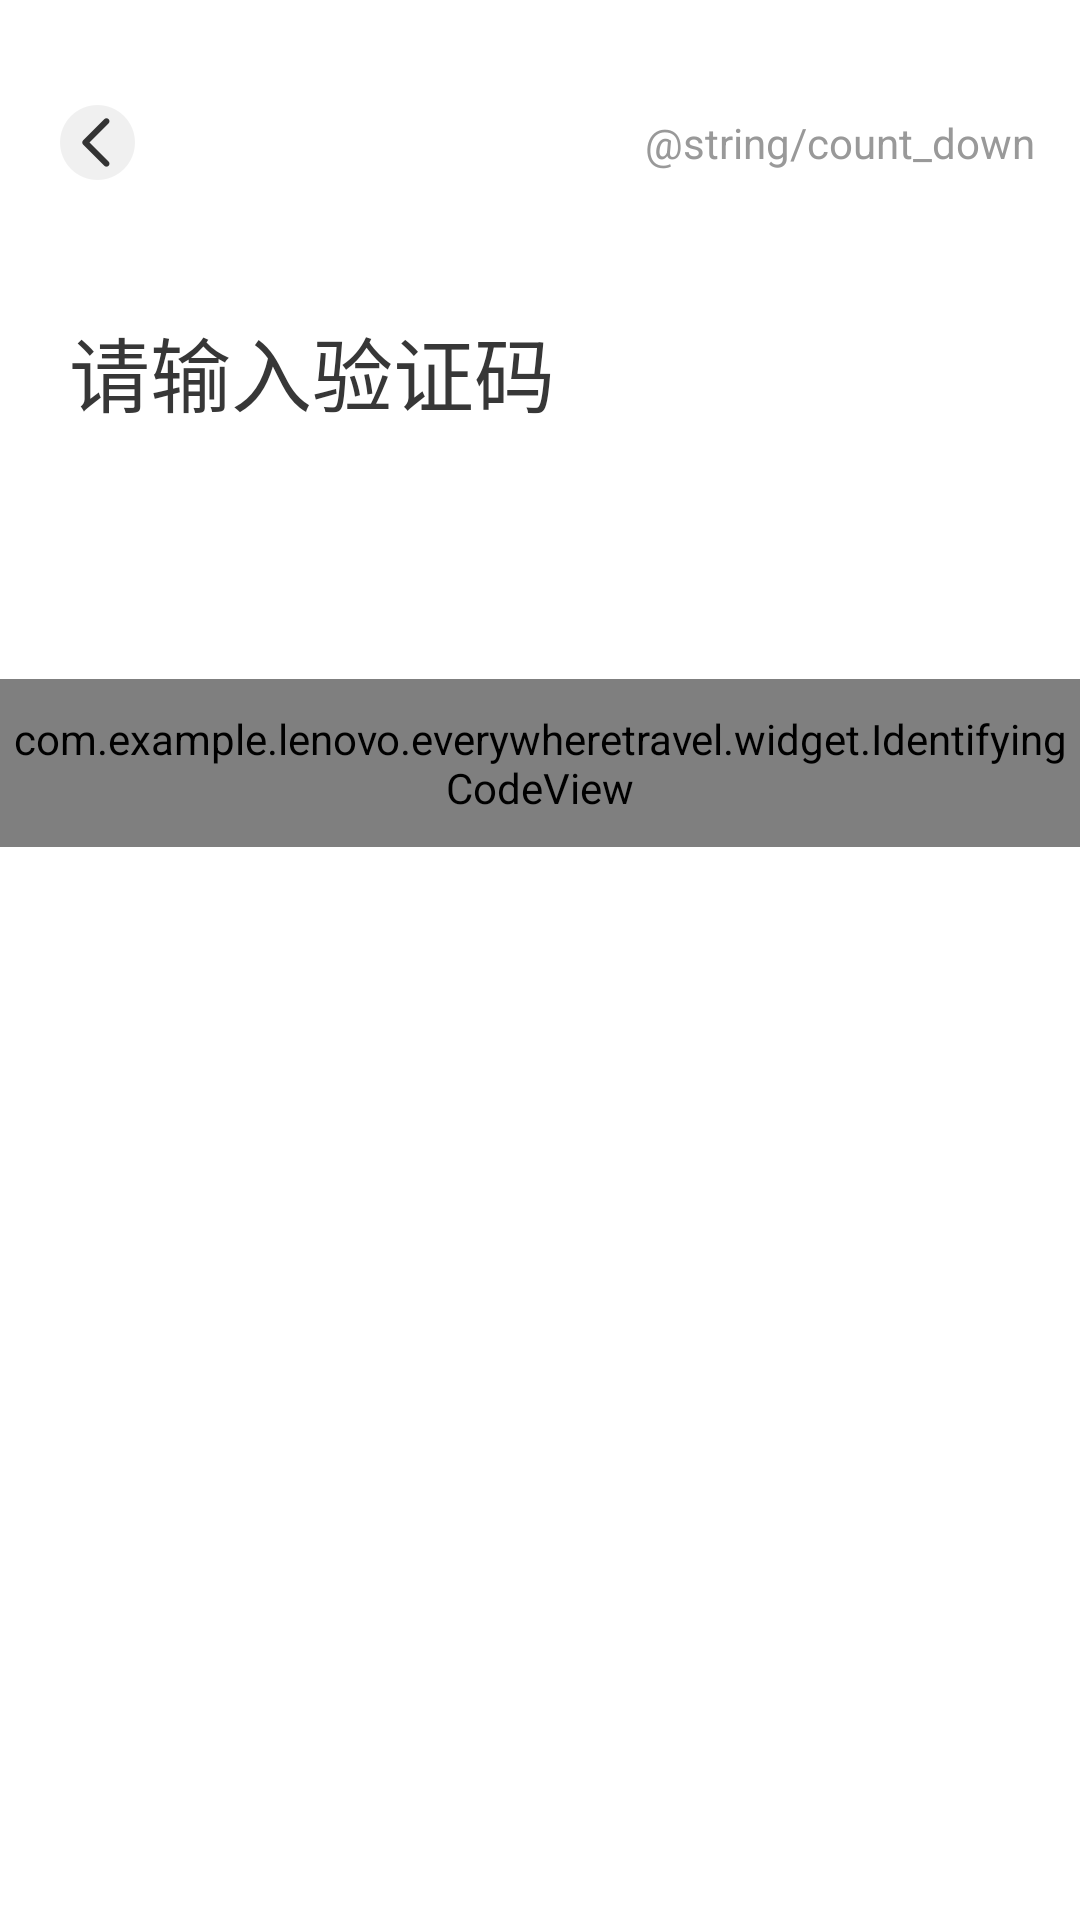

Named icons in this screenshot (1080x1920) and their bounding boxes, (x1, y1, x2, y2):
back: (60, 105, 135, 180)
